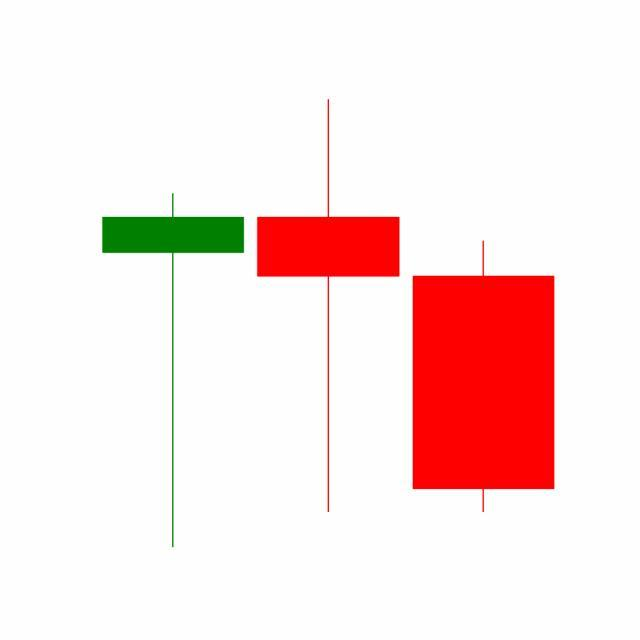Spinning Top: (250, 95, 407, 517)
